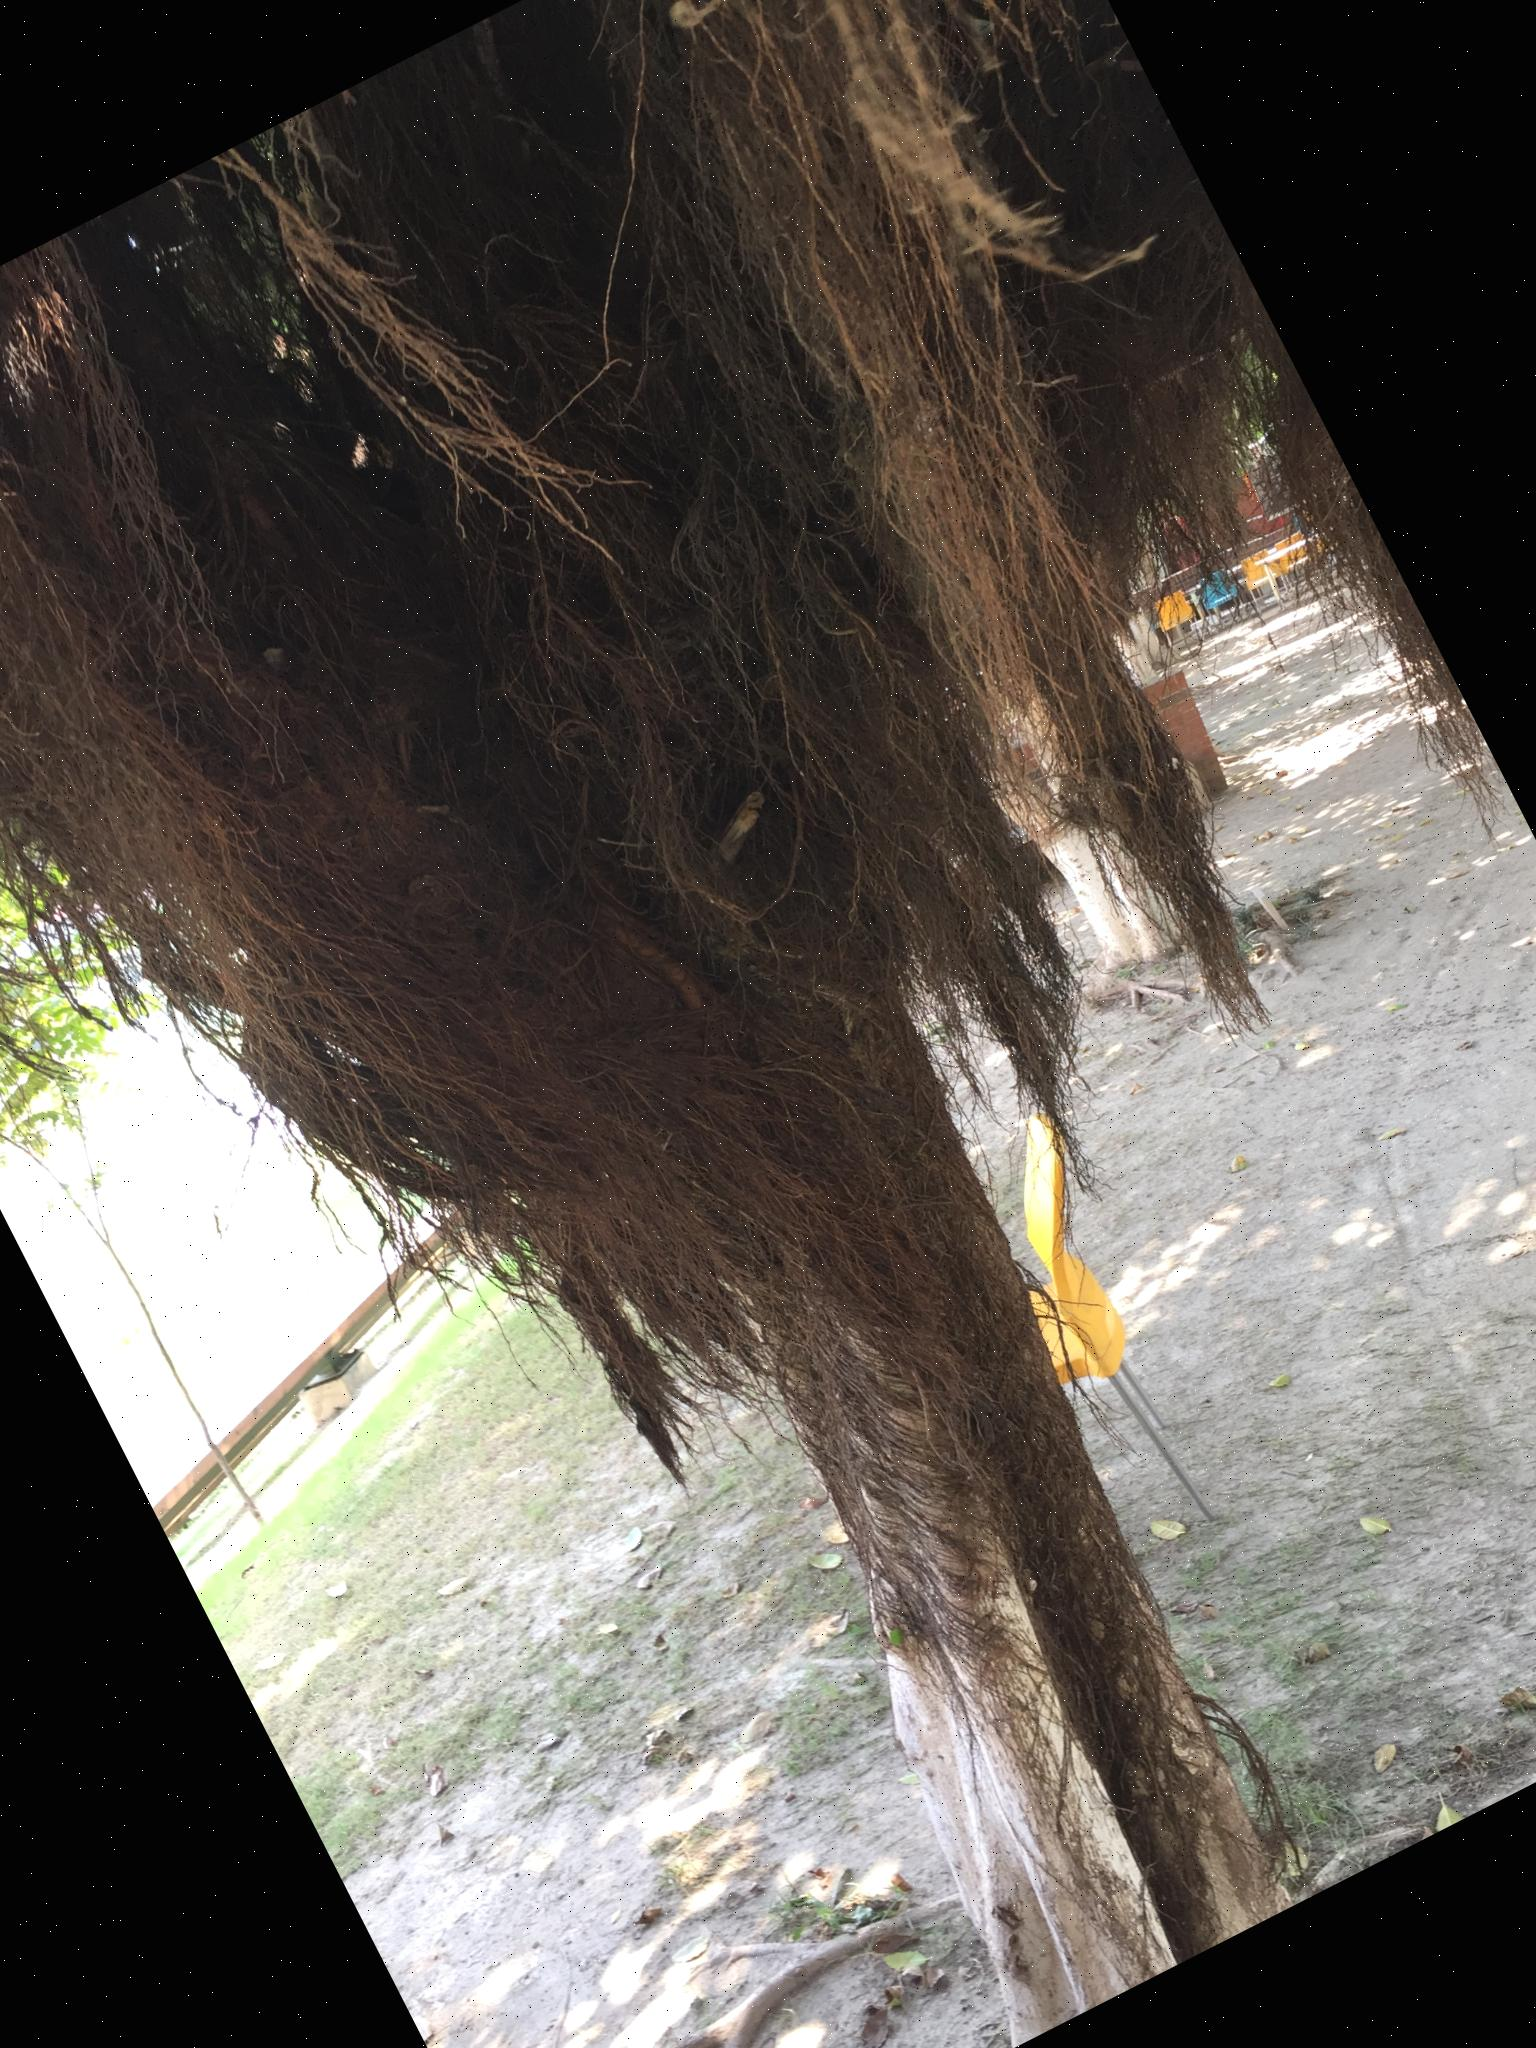chair: (941, 1103, 1250, 1558)
